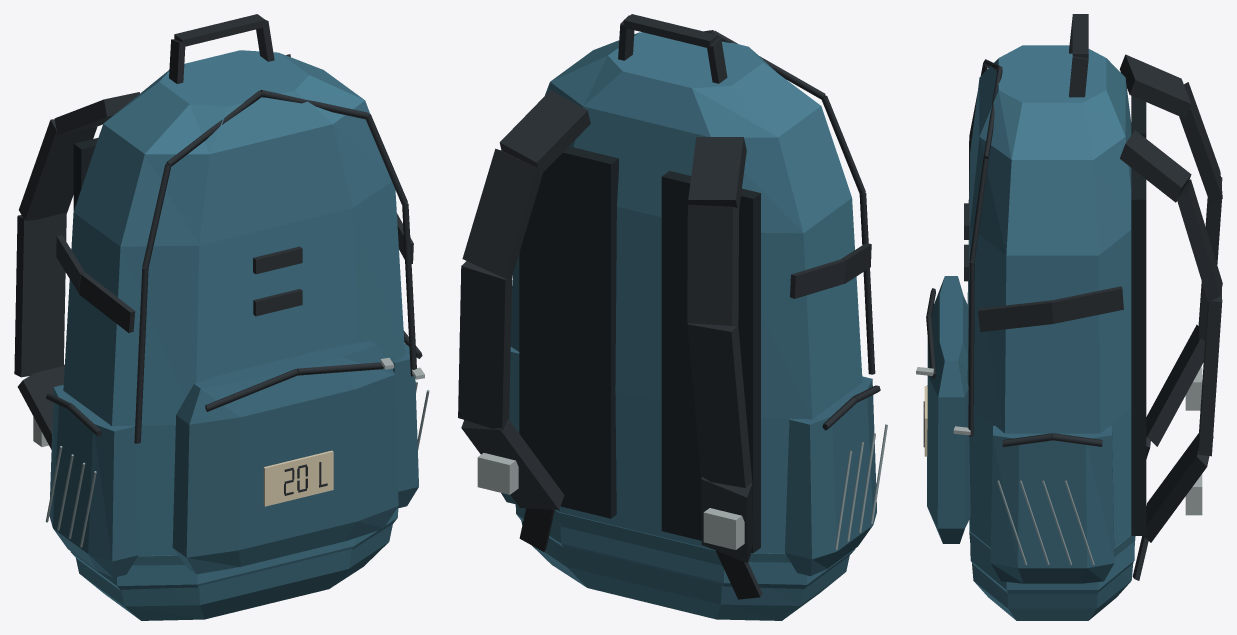
The model's file is backpack-20l.glb.
3 renders of one model, left to right at view 1: azimuth 30°, elevation 25°; view 2: azimuth 150°, elevation 25°; view 3: azimuth 270°, elevation 25°, orthographic. The views are drawn at different scales.
Visible parts, largest first — view 1: Рюкзак 20 л, Передний карман, Чёрная стропа, Боковой карман (×2), Усиленное дно, Нашивка объёма, Швы, Мягкие накладки; view 2: Рюкзак 20 л, Чёрная стропа, Мягкие накладки, Боковой карман (×2), Усиленное дно, Фурнитура, Швы; view 3: Рюкзак 20 л, Чёрная стропа, Боковой карман, Передний карман, Мягкие накладки, Усиленное дно, Фурнитура, Швы.
Boxes of the visible parts, left/top/right/bottom form: Рюкзак 20 л: left=63, top=50, right=404, bottom=590; Передний карман: left=172, top=340, right=398, bottom=574; Чёрная стропа: left=14, top=14, right=422, bottom=495; Боковой карман (×2): left=49, top=343, right=418, bottom=577; Усиленное дно: left=76, top=524, right=392, bottom=620; Нашивка объёма: left=263, top=450, right=333, bottom=506; Швы: left=45, top=381, right=429, bottom=547; Мягкие накладки: left=73, top=138, right=98, bottom=210; Рюкзак 20 л: left=510, top=32, right=862, bottom=589; Чёрная стропа: left=458, top=14, right=880, bottom=599; Мягкие накладки: left=519, top=146, right=760, bottom=553; Боковой карман (×2): left=501, top=347, right=876, bottom=576; Усиленное дно: left=521, top=509, right=849, bottom=620; Фурнитура: left=477, top=453, right=744, bottom=549; Швы: left=835, top=424, right=887, bottom=549; Рюкзак 20 л: left=967, top=45, right=1134, bottom=594; Чёрная стропа: left=923, top=14, right=1222, bottom=580; Боковой карман: left=990, top=425, right=1114, bottom=583; Передний карман: left=927, top=276, right=970, bottom=543; Мягкие накладки: left=1131, top=95, right=1146, bottom=535; Усиленное дно: left=969, top=519, right=1135, bottom=620; Фурнитура: left=916, top=367, right=1202, bottom=515; Швы: left=997, top=480, right=1094, bottom=565.
Bounding box in the file's own units: 0.31 × 0.48 × 0.25.
